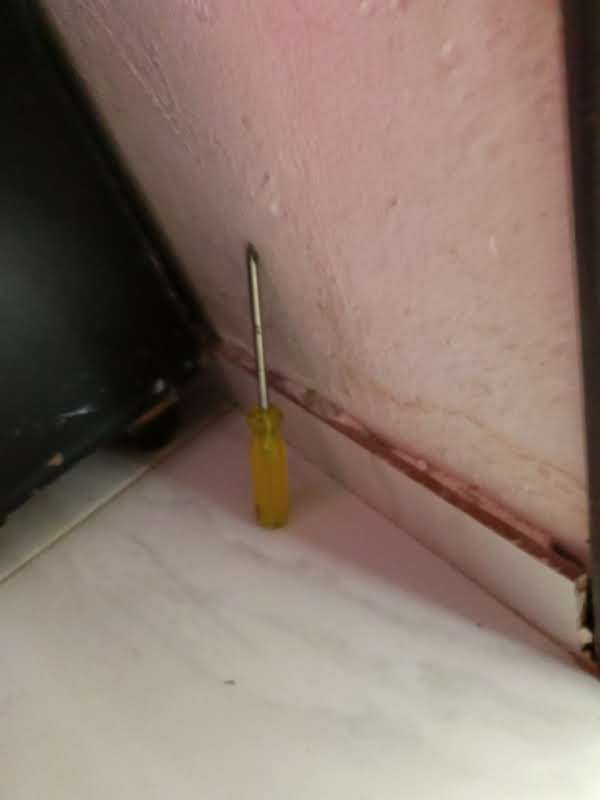Destornillador: (246, 245, 288, 528)
